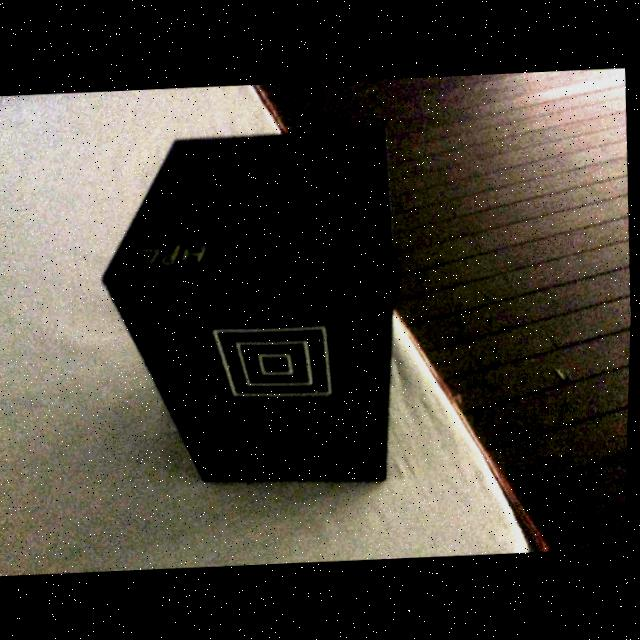BULLSEYE: (216, 327, 334, 398)
